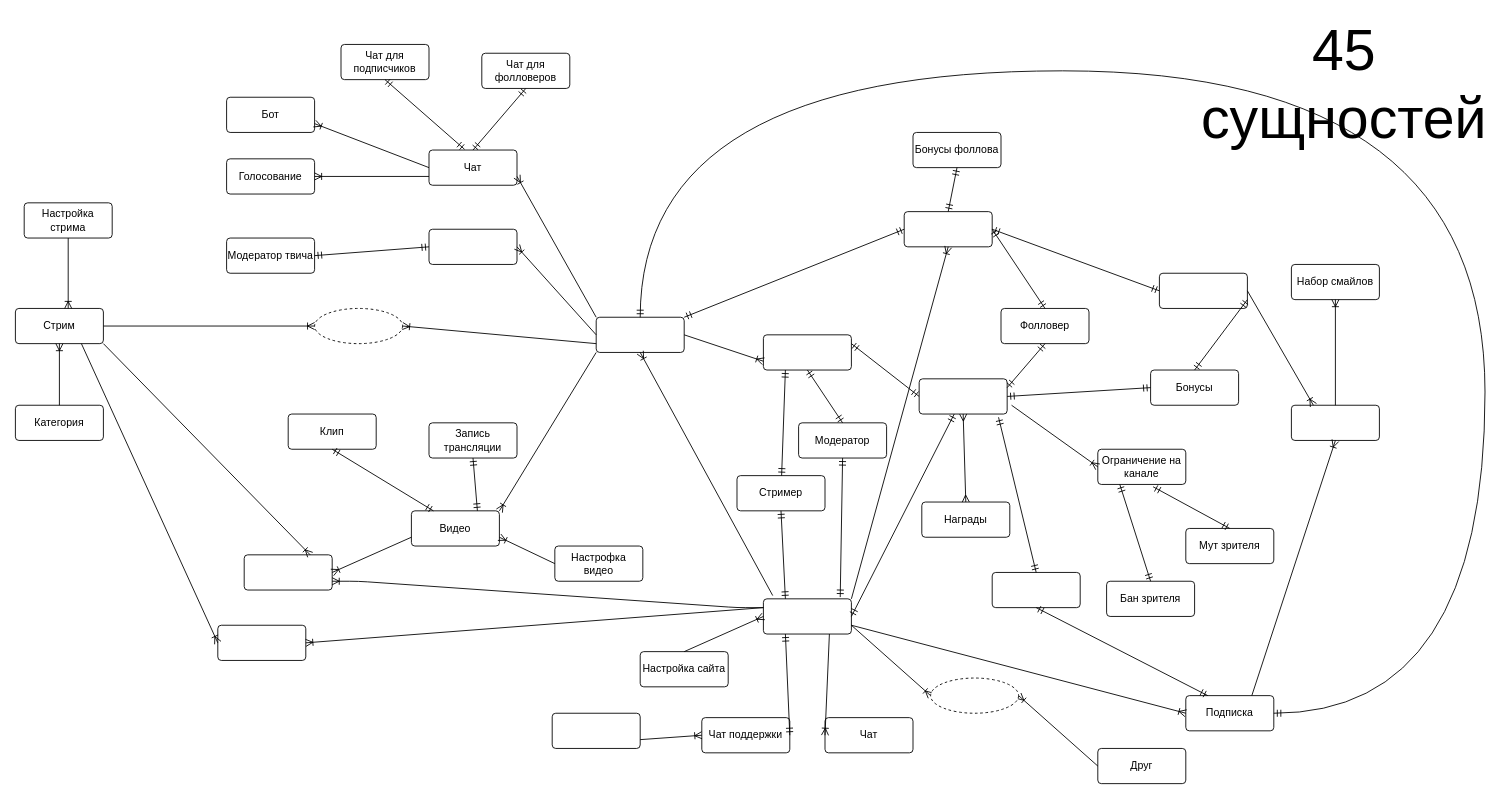
Some shapes in this 1502 by 799 pixel diagram are drawn without their labels. Here are the shapes that lost their labels. From the top down, the centre of each, then its label:
the point at 472,246: Бан канала
the point at 947,229: Фоллоу
the point at 1203,290: Правила начисления бонусов
the point at 358,326: Стрим_канала
the point at 639,334: Канал
the point at 807,352: Участник
the point at 962,396: Зритель
the point at 1335,422: Уровень подписки
the point at 287,572: Репорт
the point at 1035,590: Подписчик
the point at 807,616: Пользователь
the point at 261,642: Донат
the point at 974,695: Друг пользователч
the point at 595,730: Служба поддержеи
